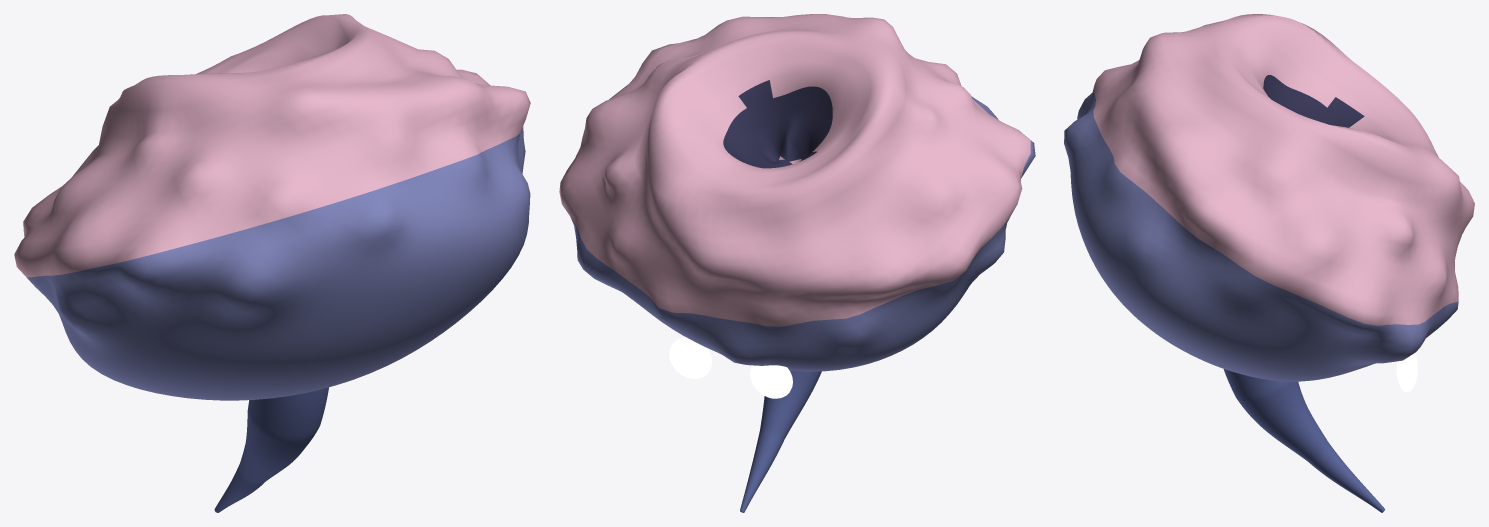
Rendered from spark.glb.
3 views of the same model, side by side, from view 1: azimuth 30°, elevation 25°; view 2: azimuth 150°, elevation 25°; view 3: azimuth 270°, elevation 25° (orthographic). The views are drawn at different scales.
Visible parts, largest first — view 1: SPARK_head, SPARK_body; view 2: SPARK_head, SPARK_body, SPARK_eye_R, SPARK_eye_L; view 3: SPARK_head, SPARK_body, SPARK_eye_R.
Part boxes in pixels (bbox=[...]): SPARK_head: bbox=[14, 14, 530, 400]; SPARK_body: bbox=[214, 387, 328, 512]; SPARK_head: bbox=[559, 14, 1035, 371]; SPARK_body: bbox=[740, 370, 821, 512]; SPARK_eye_R: bbox=[669, 337, 711, 378]; SPARK_eye_L: bbox=[750, 365, 792, 398]; SPARK_head: bbox=[1064, 14, 1474, 381]; SPARK_body: bbox=[1223, 369, 1385, 512]; SPARK_eye_R: bbox=[1396, 353, 1417, 392].
Size of the model in its own units: 0.8355 by 0.8553 by 0.6927.
